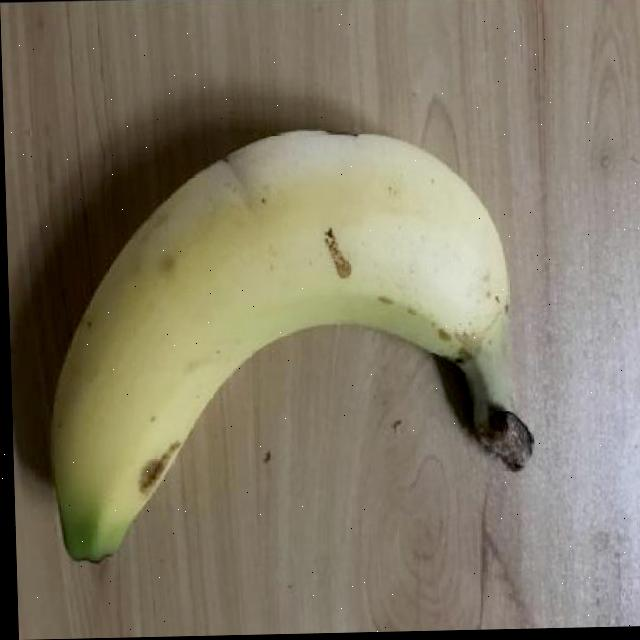banana: (35, 123, 537, 568)
